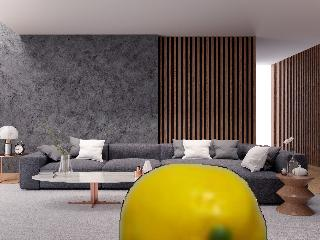lemon: (119, 163, 267, 240)
